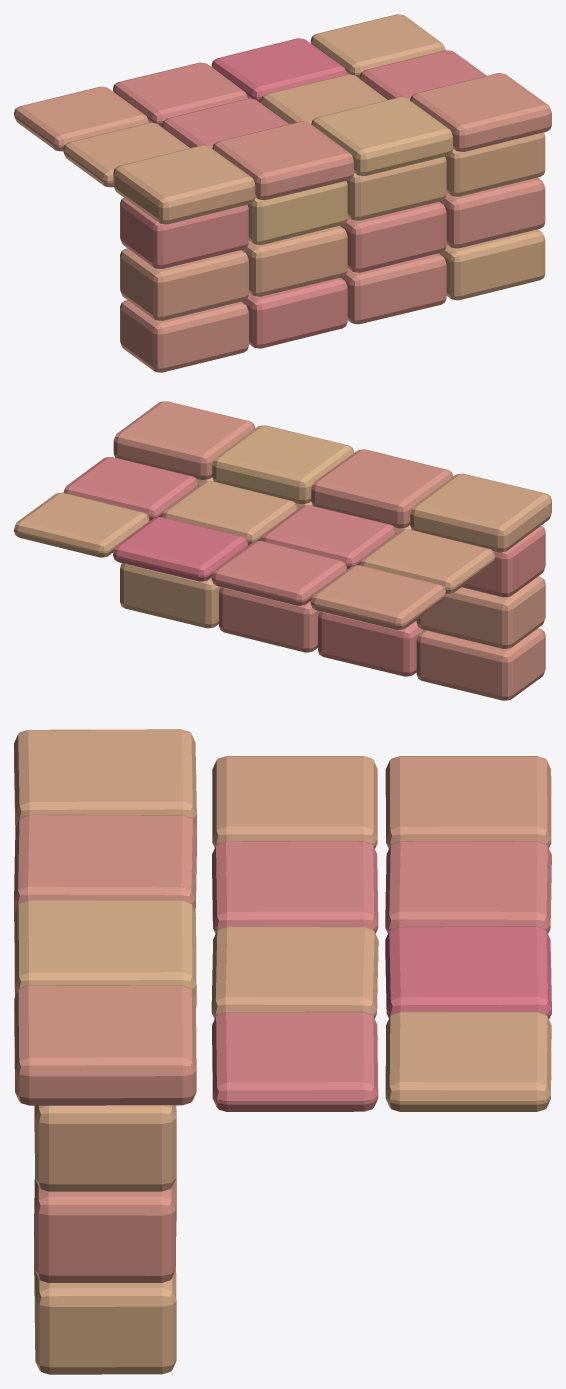
Rendered from WC_RIVER_Bank_PathTransition_A.glb.
3 renders of one model, top to bottom at view 1: azimuth 30°, elevation 25°; view 2: azimuth 150°, elevation 25°; view 3: azimuth 270°, elevation 25°, orthographic. The views are drawn at different scales.
Parts seen in each view (by area): view 1: WC_RIVER_Bank_PathTransition_A_RenderMesh; view 2: WC_RIVER_Bank_PathTransition_A_RenderMesh; view 3: WC_RIVER_Bank_PathTransition_A_RenderMesh.
Part boxes in pixels (box(x1,y1,x2,y2)): WC_RIVER_Bank_PathTransition_A_RenderMesh: box(14, 14, 551, 372); WC_RIVER_Bank_PathTransition_A_RenderMesh: box(14, 401, 551, 700); WC_RIVER_Bank_PathTransition_A_RenderMesh: box(14, 729, 551, 1374).
Size of the model in its own units: 1.99 by 0.8675 by 1.33.
